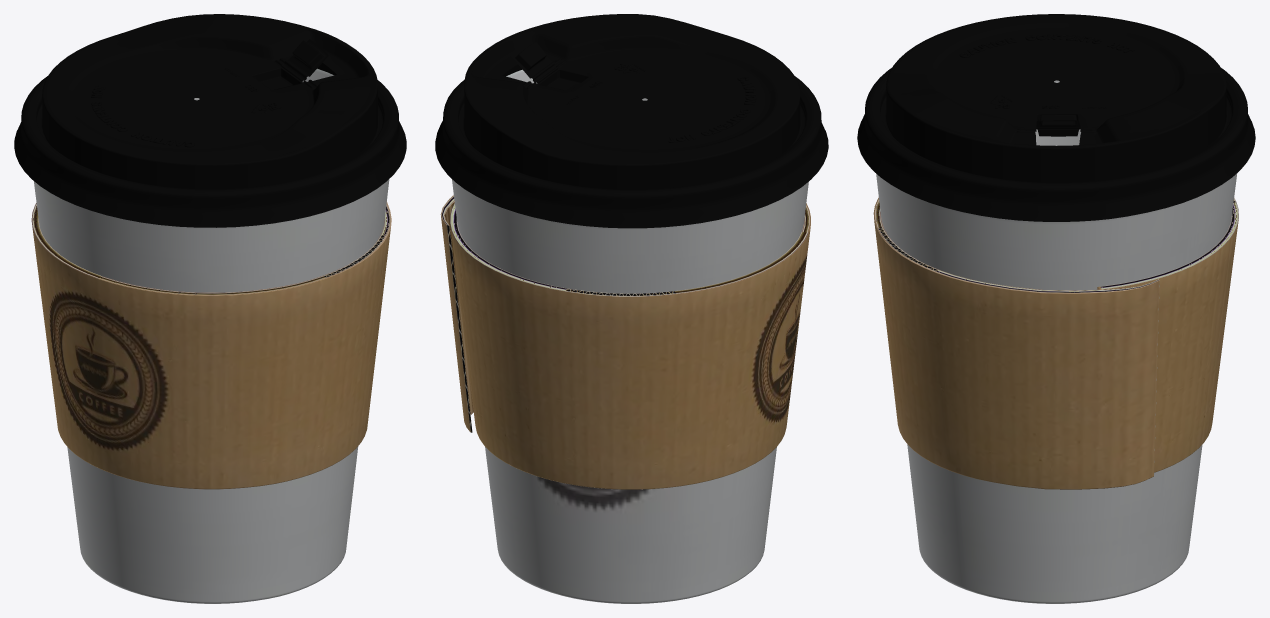
Rendered from coffee.glb.
The picture shows the model from 3 angles, left to right: view 1: azimuth 30°, elevation 25°; view 2: azimuth 150°, elevation 25°; view 3: azimuth 270°, elevation 25°; orthographic projection.
Parts seen in each view (by area): view 1: o_Circle005_Circle198, o_Circle001_Circle006, o_Circle000_Circle197, o_Circle002, o_Circle061_Circle063; view 2: o_Circle005_Circle198, o_Circle001_Circle006, o_Circle000_Circle197, o_Circle002, o_Circle061_Circle063; view 3: o_Circle005_Circle198, o_Circle001_Circle006, o_Circle000_Circle197, o_Circle061_Circle063, o_Circle002.
Part boxes in pixels (x1,y1,x2,y2): o_Circle005_Circle198: [31, 201, 391, 489]; o_Circle001_Circle006: [14, 14, 406, 227]; o_Circle000_Circle197: [34, 68, 389, 603]; o_Circle002: [281, 39, 328, 81]; o_Circle061_Circle063: [91, 68, 281, 147]; o_Circle005_Circle198: [440, 195, 810, 489]; o_Circle001_Circle006: [435, 14, 828, 228]; o_Circle000_Circle197: [452, 69, 808, 603]; o_Circle002: [510, 41, 558, 83]; o_Circle061_Circle063: [566, 63, 756, 142]; o_Circle005_Circle198: [873, 197, 1238, 489]; o_Circle001_Circle006: [857, 14, 1255, 221]; o_Circle000_Circle197: [876, 80, 1237, 603]; o_Circle061_Circle063: [959, 34, 1134, 108]; o_Circle002: [1036, 115, 1081, 129].
Size of the model in its own units: 6.39 by 8.55 by 6.39.
Materials: 4 (2 with a texture image).
